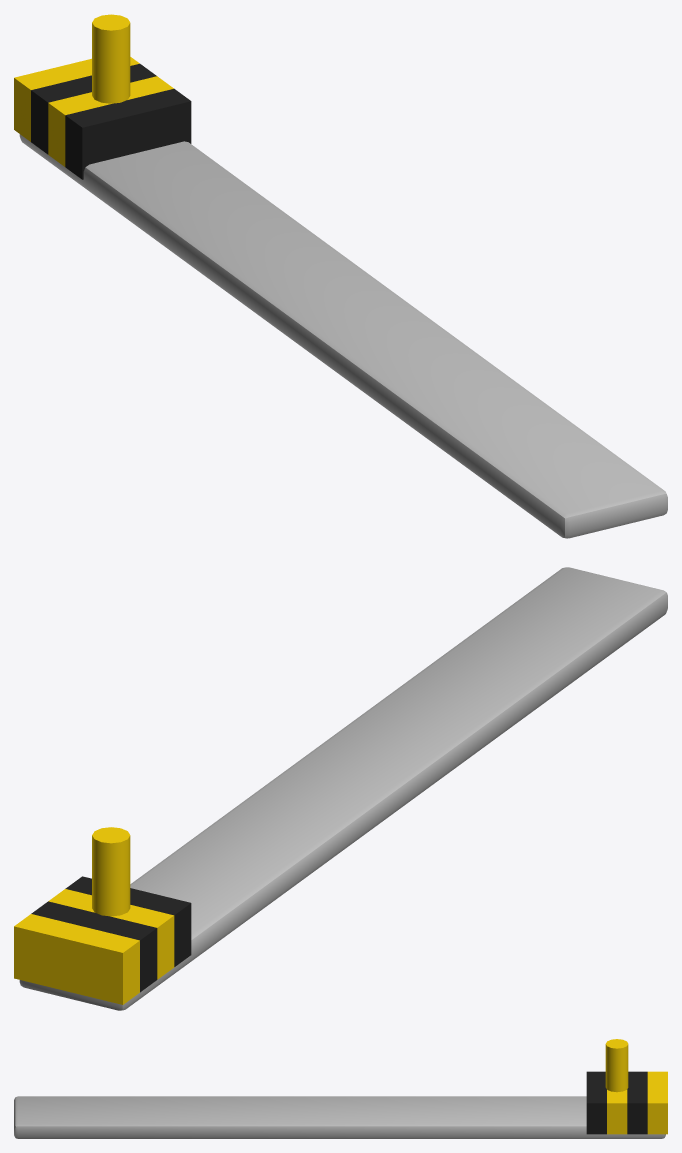
Rendered from roadevents_toll_curb.glb.
3 views of the same model, one above another, from view 1: azimuth 30°, elevation 25°; view 2: azimuth 150°, elevation 25°; view 3: azimuth 270°, elevation 25° (orthographic). The views are drawn at different scales.
Visible parts, largest first — view 1: TollCurb; view 2: TollCurb; view 3: TollCurb.
Boxes of the visible parts, bbox=[...] form: TollCurb: bbox=[14, 14, 667, 538]; TollCurb: bbox=[14, 567, 667, 1010]; TollCurb: bbox=[14, 1039, 667, 1138].
Size of the model in its own units: 0.92 by 1.1 by 8.03.
